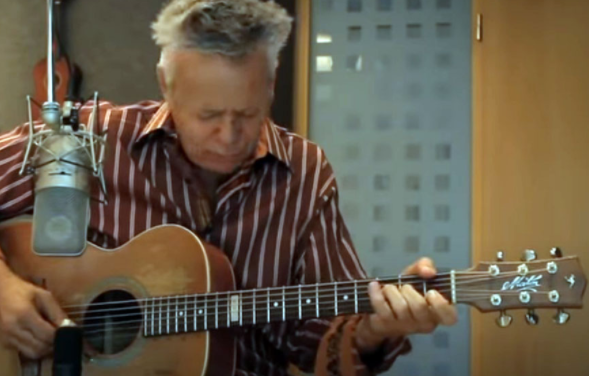fretboard: (142, 271, 453, 336)
